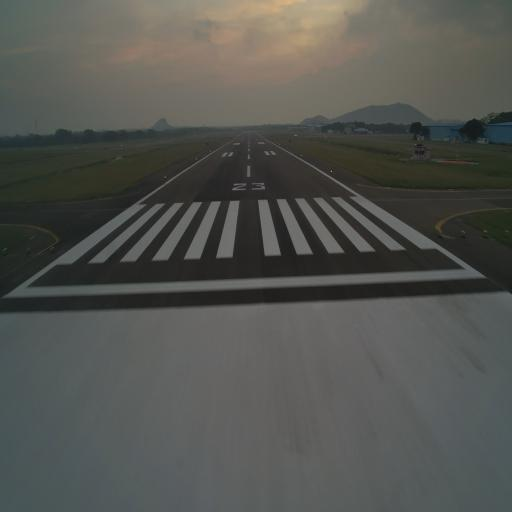on: (503, 224, 510, 238), (458, 228, 466, 237), (437, 227, 443, 238), (482, 226, 488, 237), (25, 244, 31, 254), (2, 244, 7, 255), (50, 244, 56, 253)
